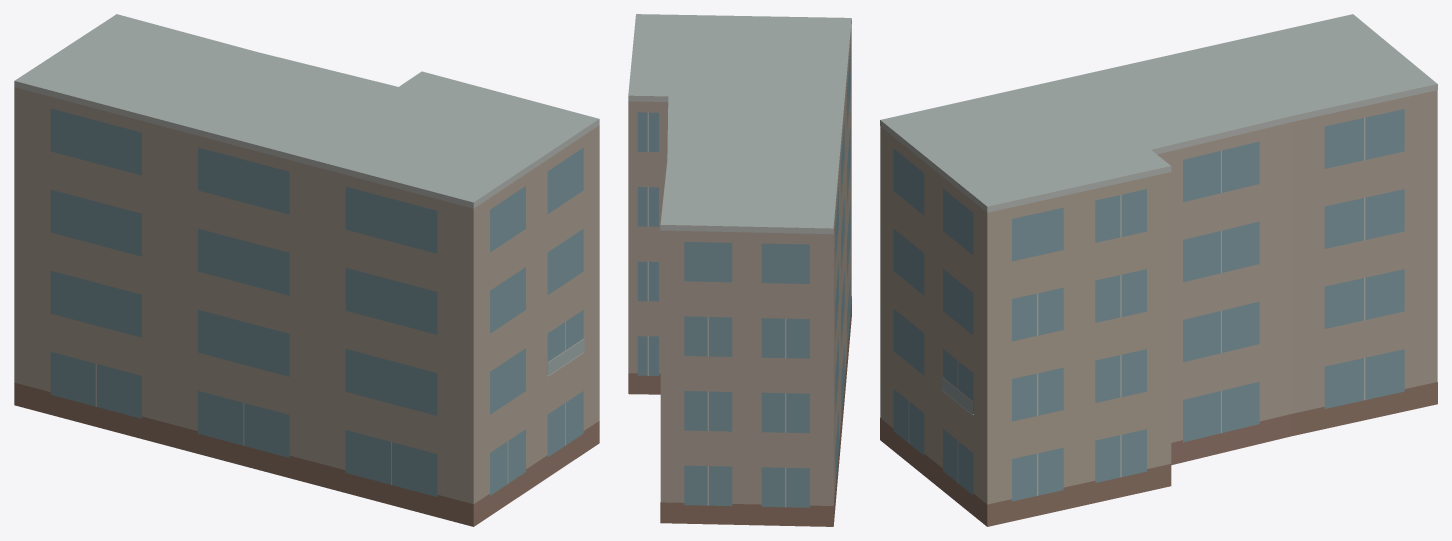
Rendered from survey-upis-32770005.glb.
3 renders of one model, left to right at view 1: azimuth 30°, elevation 25°; view 2: azimuth 150°, elevation 25°; view 3: azimuth 270°, elevation 25°, orthographic. The views are drawn at different scales.
Parts seen in each view (by area): view 1: survey-upis-32770005.tmp; view 2: survey-upis-32770005.tmp; view 3: survey-upis-32770005.tmp.
Boxes of the visible parts, bbox=[...] form: survey-upis-32770005.tmp: bbox=[14, 14, 599, 526]; survey-upis-32770005.tmp: bbox=[628, 14, 851, 526]; survey-upis-32770005.tmp: bbox=[880, 14, 1437, 526].
Bounding box in the file's own units: 16.53 × 12.8 × 20.21.
